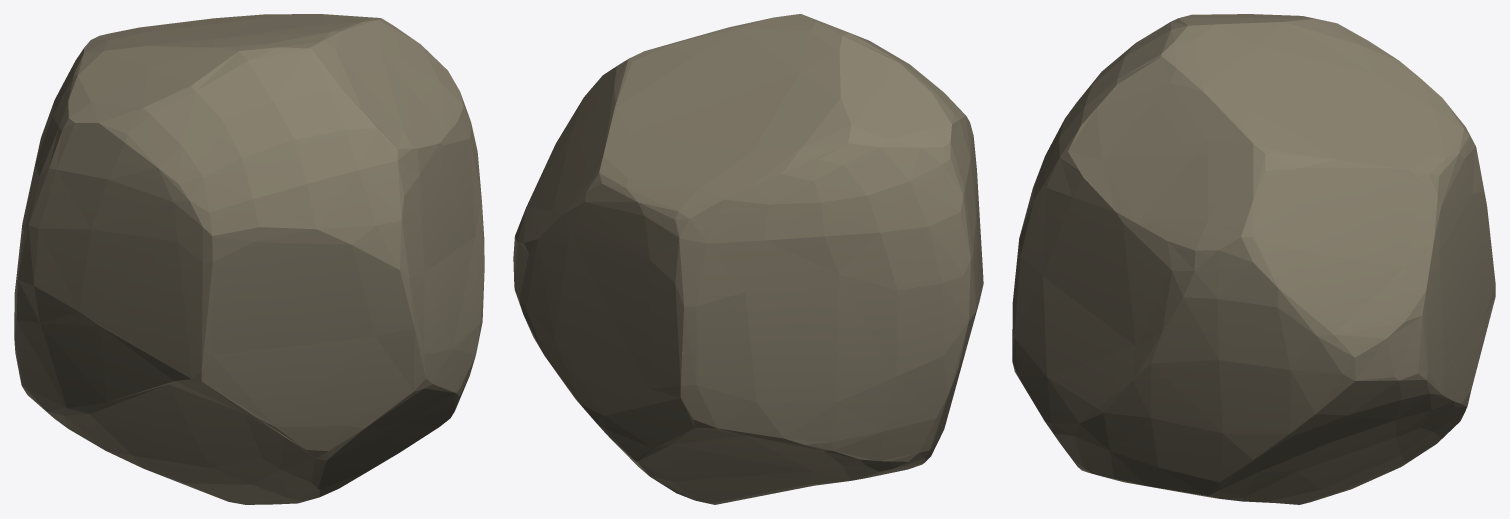
Rendered from rock-d.glb.
The picture shows the model from 3 angles, left to right: view 1: azimuth 30°, elevation 25°; view 2: azimuth 150°, elevation 25°; view 3: azimuth 270°, elevation 25°; orthographic projection. The views are drawn at different scales.
Size of the model in its own units: 0.6053 by 0.6046 by 0.5856.
